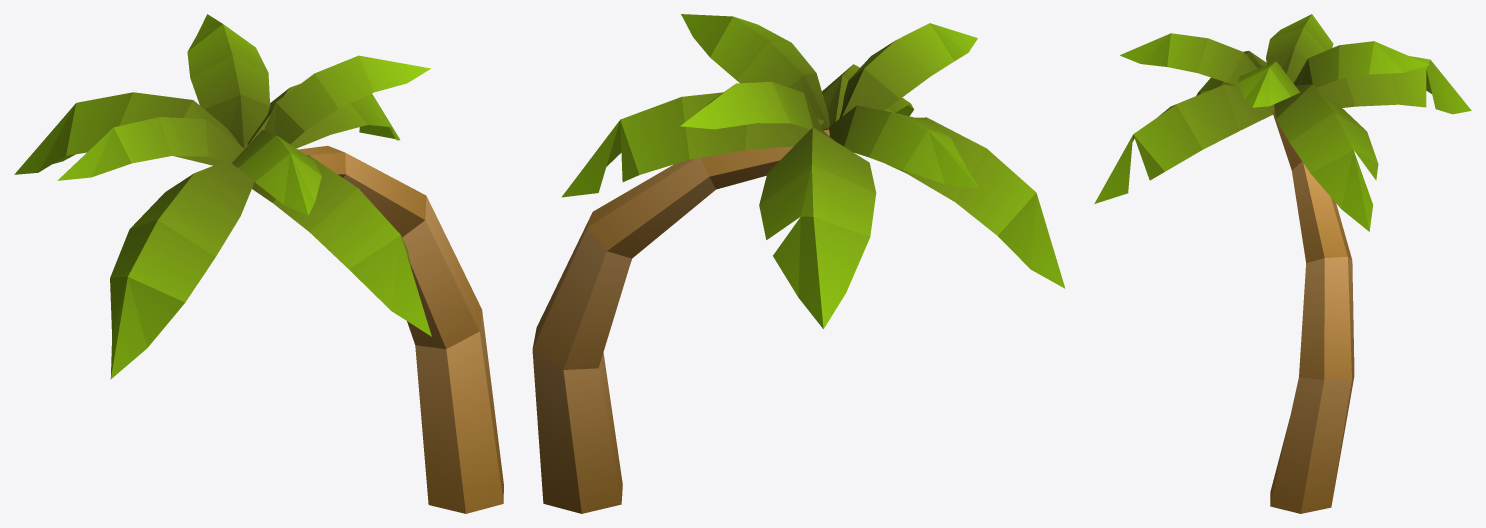
The model's file is Palm_Tree_B.fbx.
The picture shows the model from 3 angles, left to right: view 1: azimuth 30°, elevation 25°; view 2: azimuth 150°, elevation 25°; view 3: azimuth 270°, elevation 25°; orthographic projection. The views are drawn at different scales.
Visible parts, largest first — view 1: Palm_Tree_B; view 2: Palm_Tree_B; view 3: Palm_Tree_B.
Part boxes in pixels (bbox=[...]): Palm_Tree_B: bbox=[14, 14, 503, 513]; Palm_Tree_B: bbox=[532, 14, 1065, 513]; Palm_Tree_B: bbox=[1094, 14, 1471, 513].
Bounding box in the file's own units: 292 × 267 × 300.
Materials: 1 (1 with a texture image).
